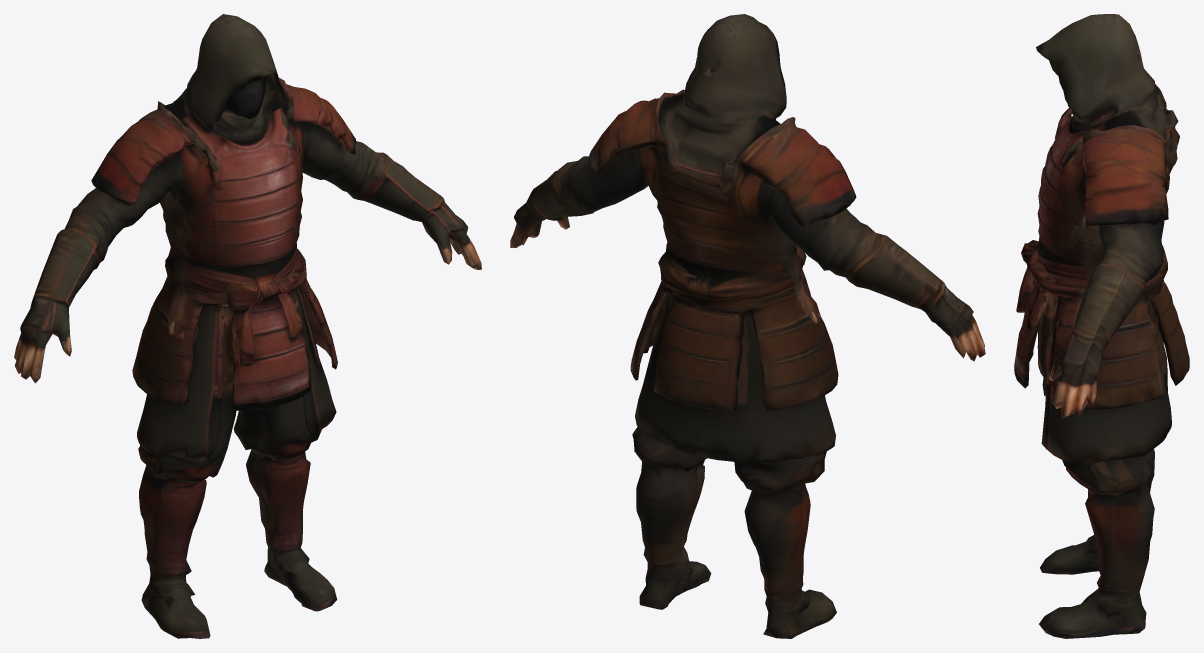
File: Warrior_in_Shadows_1130110551_texture.fbx
The picture shows the model from 3 angles, left to right: view 1: azimuth 30°, elevation 25°; view 2: azimuth 150°, elevation 25°; view 3: azimuth 270°, elevation 25°; orthographic projection.
Parts seen in each view (by area): view 1: Mesh_0; view 2: Mesh_0; view 3: Mesh_0.
Part boxes in pixels (x1,y1,x2,y2): Mesh_0: [14, 14, 481, 638]; Mesh_0: [510, 14, 985, 638]; Mesh_0: [1014, 14, 1189, 638].
Size of the model in its own units: 165 by 200 by 54.53.
1 material, 1 textured.
